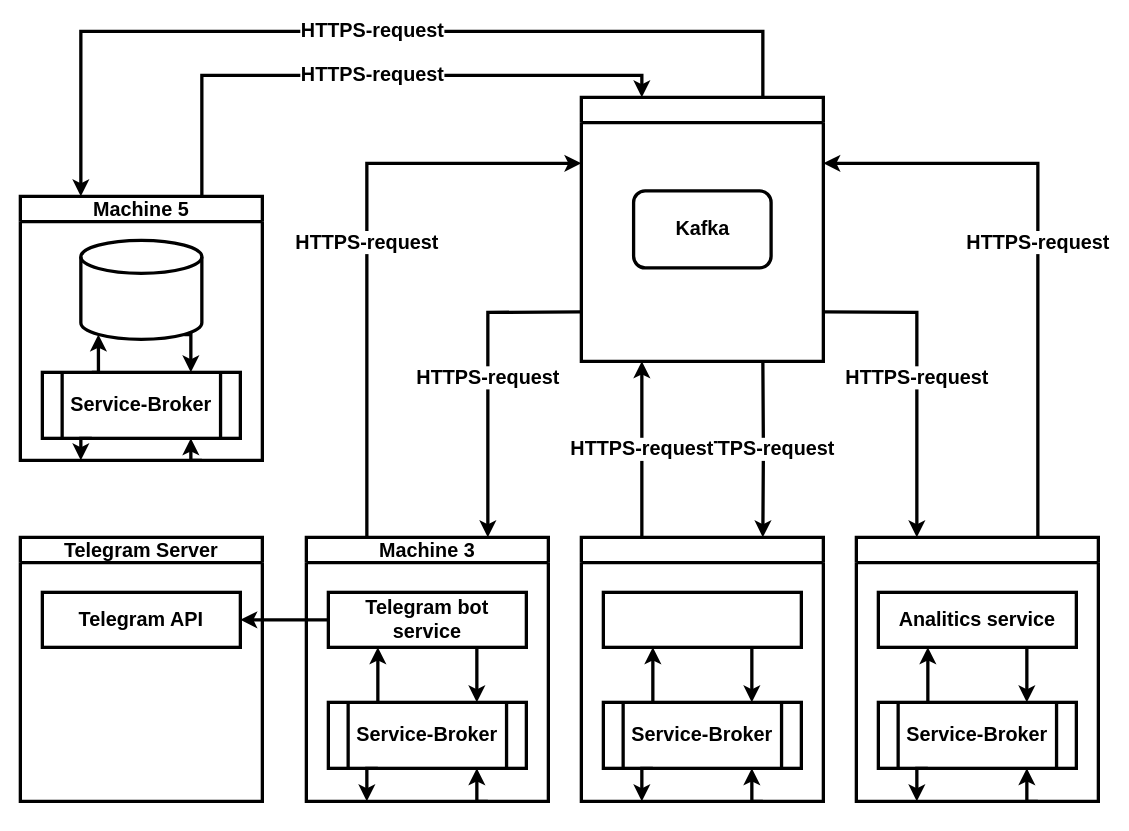
Some shapes in this 1129 by 831 pixel diagram are drawn without their labels. The box of each missing label's shape, as (x1, y1, x2, y2) in pixels:
Machine 1: (579, 535, 824, 802)
Machine 2: (579, 95, 824, 362)
Machine 4: (854, 535, 1099, 802)
PostrgeSQL Database: (79, 238, 203, 340)
Solve-GIA service: (601, 590, 802, 648)
